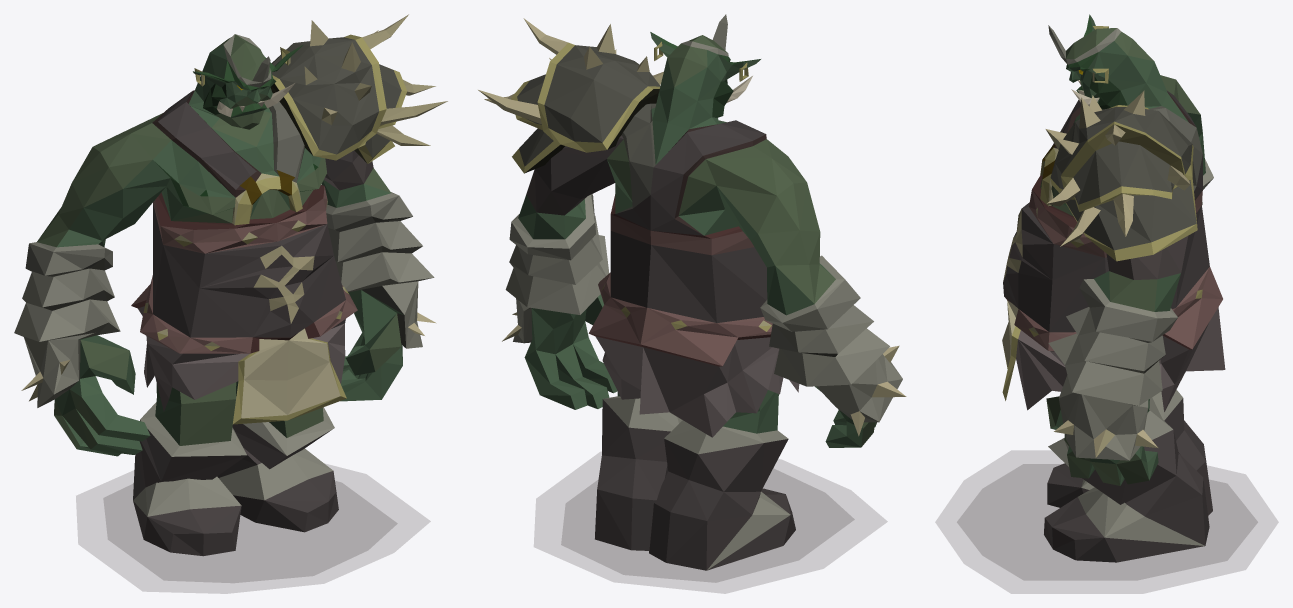
File: general-graardor.gltf
3 renders of one model, left to right at view 1: azimuth 30°, elevation 25°; view 2: azimuth 150°, elevation 25°; view 3: azimuth 270°, elevation 25°, orthographic. The views are drawn at different scales.
Bounding box in the file's own units: 480 × 533 × 334.
2 materials, 2 textured.
